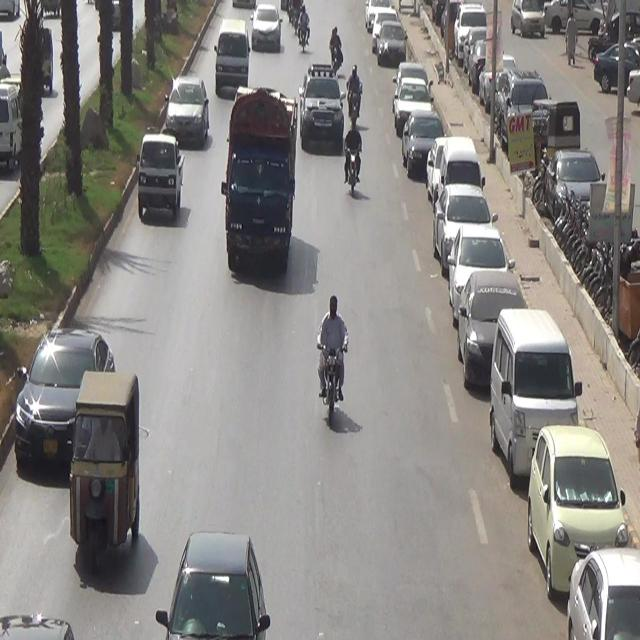car: (12, 322, 114, 478), (158, 511, 270, 640), (297, 56, 342, 156), (160, 74, 210, 148), (210, 18, 250, 90), (251, 0, 278, 56)
motorbike: (317, 293, 358, 432), (344, 66, 368, 154), (341, 108, 361, 201), (325, 26, 347, 83)
truck: (219, 88, 303, 296), (127, 123, 189, 224)
